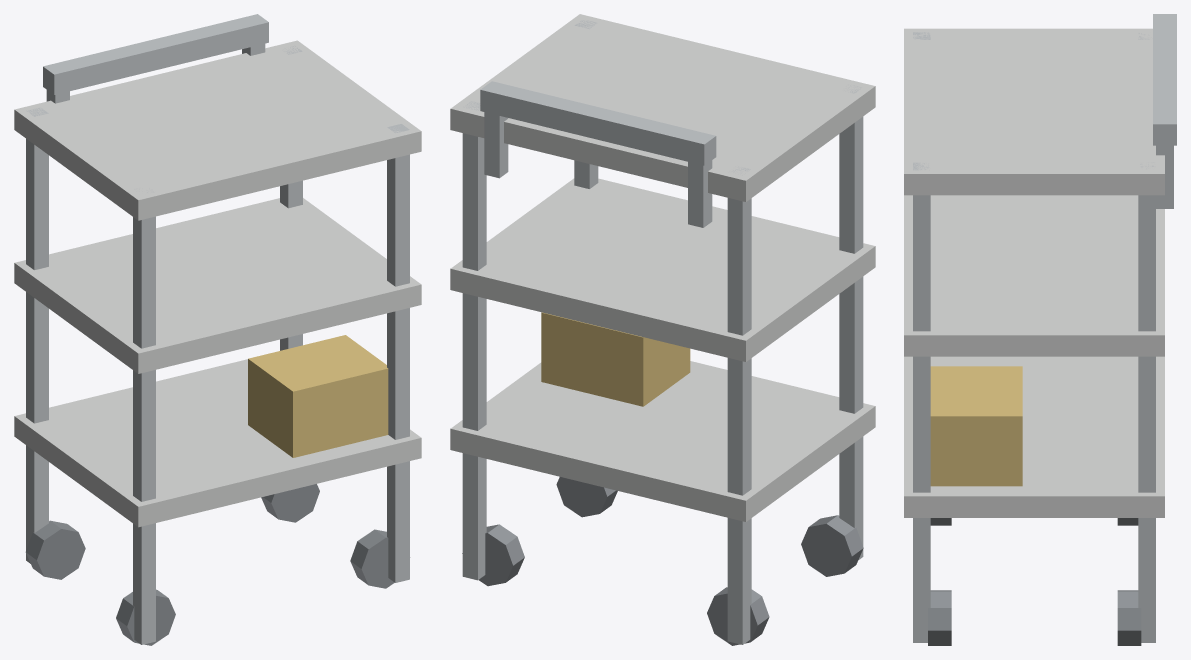
The model's file is P_medical_cart.fbx.
3 views of the same model, side by side, from view 1: azimuth 30°, elevation 25°; view 2: azimuth 150°, elevation 25°; view 3: azimuth 270°, elevation 25° (orthographic). The views are drawn at different scales.
Parts seen in each view (by area): view 1: P_medical_cart; view 2: P_medical_cart; view 3: P_medical_cart.
Boxes of the visible parts, left/top/right/bottom form: P_medical_cart: left=14, top=14, right=421, bottom=645; P_medical_cart: left=450, top=14, right=875, bottom=645; P_medical_cart: left=904, top=14, right=1176, bottom=645.
Size of the model in its own units: 0.58 by 0.96 by 0.46.
